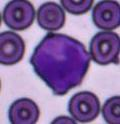M: (30, 34, 90, 94)
